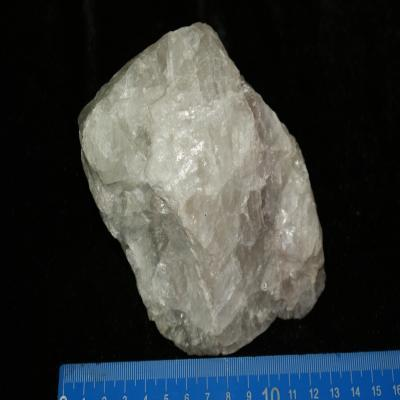mineralogy: (76, 22, 328, 358)
